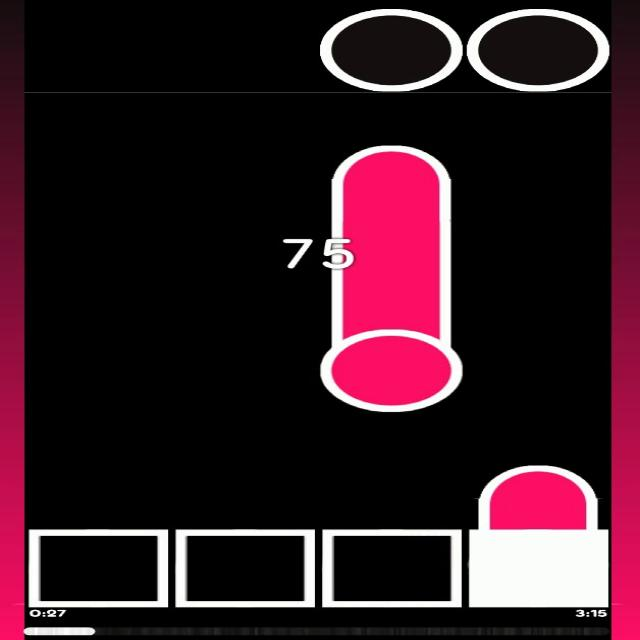end_hold: (331, 136, 451, 186), (481, 456, 596, 506)
note: (318, 8, 464, 92), (466, 9, 611, 91)
start_hold: (320, 307, 464, 413)
